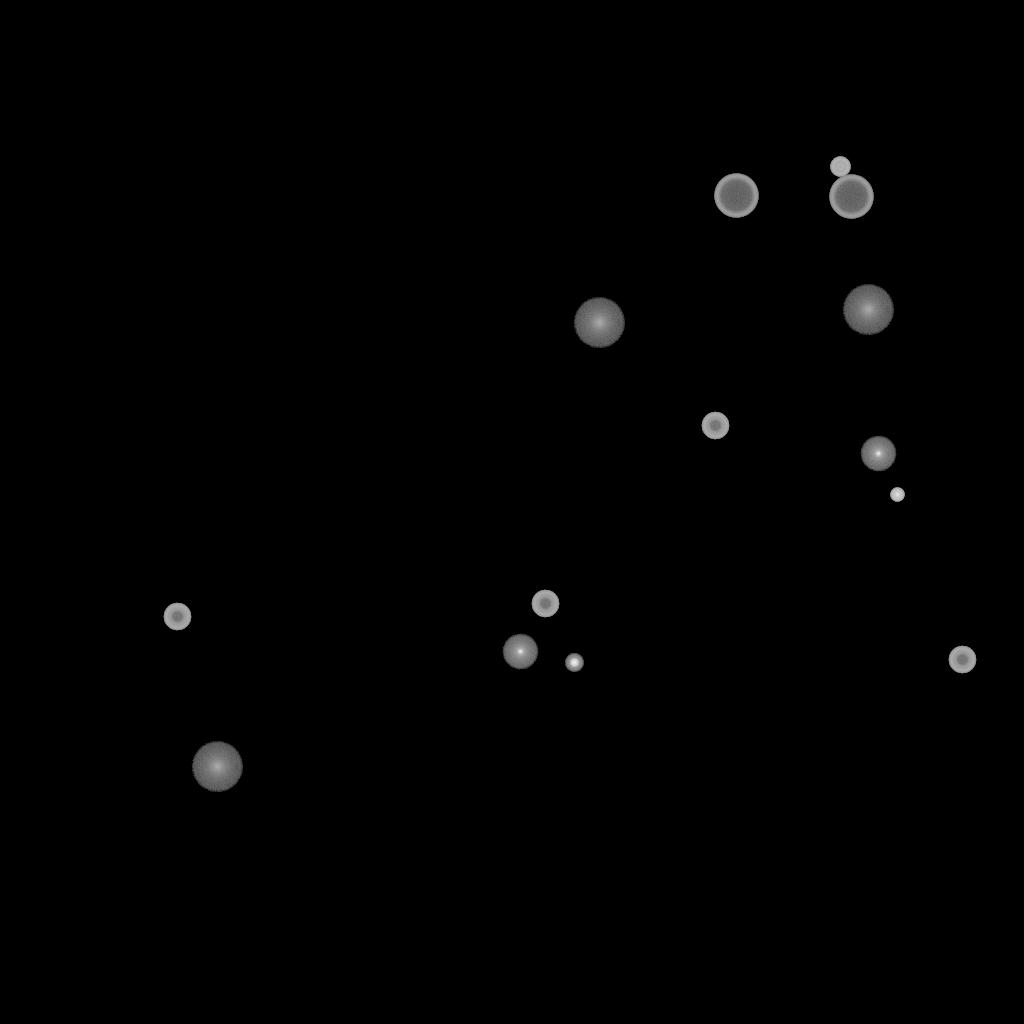depth:-20: (565, 654, 583, 672)
depth:-30: (890, 488, 904, 502)
depth:-40: (830, 157, 850, 177)
depth:-50: (701, 412, 729, 440), (948, 646, 976, 674), (163, 603, 191, 631), (531, 590, 559, 618)
depth:-70: (714, 174, 758, 218), (829, 175, 873, 219)
depth:0: (502, 634, 538, 670), (860, 436, 896, 472)
depth:20: (191, 742, 243, 792), (573, 298, 625, 348), (842, 285, 894, 335)
